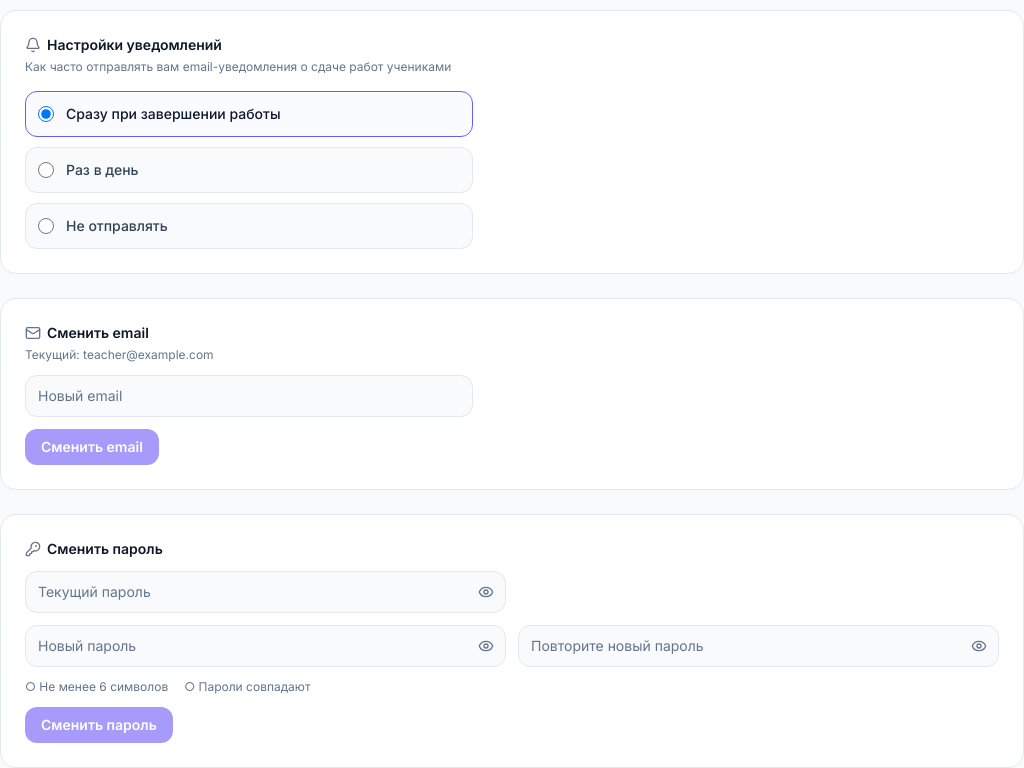
Scenario: TeacherProfilePage — смена пароля с подтверждением текущим паролем › блокирует кнопку «Сменить пароль» при пустом текущем пароле, даже если новый и подтверждение заполнены корректно
This screenshot has width=1024, height=768.
(page scrolled)
Expected: the button "Сменить пароль" is disabled, [25, 707, 173, 743]
Type "newpass123" into the password field with placeholder "Новый пароль". click: point(266, 646)
box: [25, 625, 506, 667]
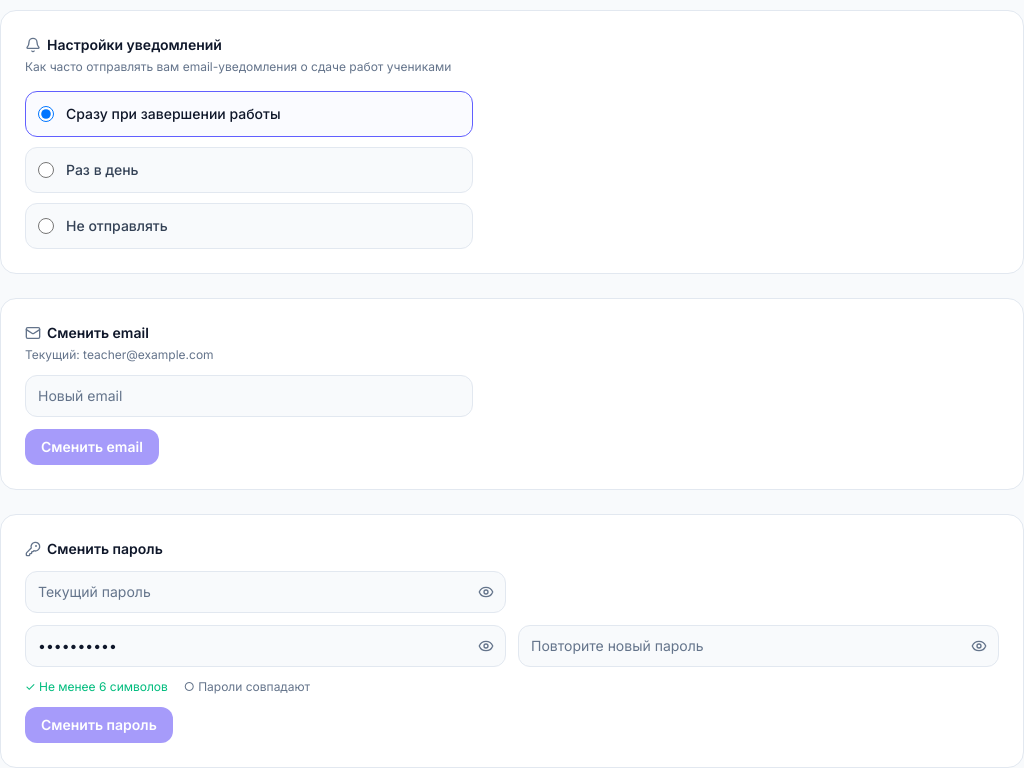
Type "newpass123" into the password field with placeholder "Повторите новый пароль". click: point(758, 646)
box: [518, 625, 999, 667]
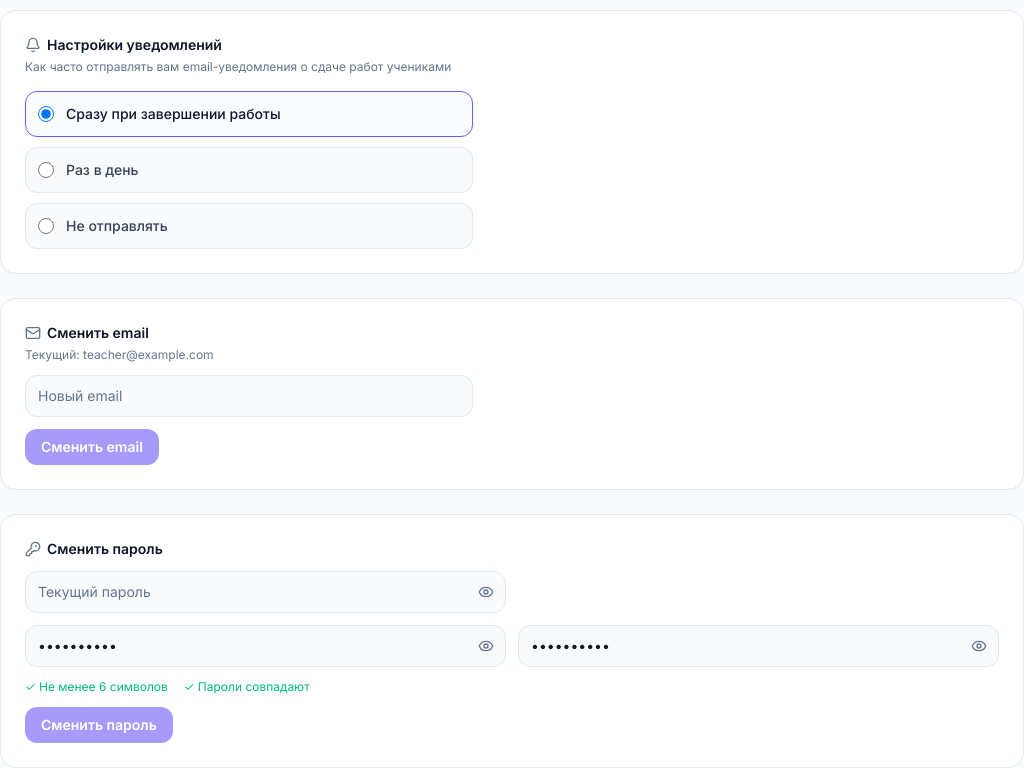
Expected: the button "Сменить пароль" is disabled, [25, 707, 173, 743]
Type "oldpass123" into the password field with placeholder "Текущий пароль". click: point(266, 592)
box: [25, 571, 506, 613]
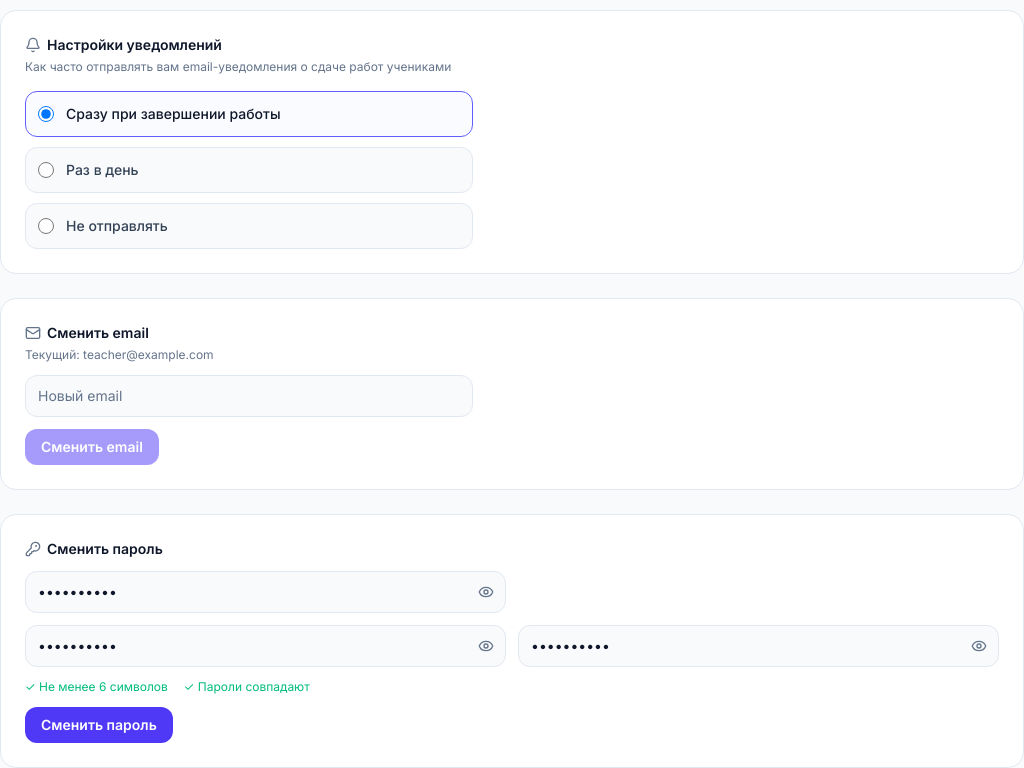
Expected: the button "Сменить пароль" is enabled, [25, 707, 173, 743]
